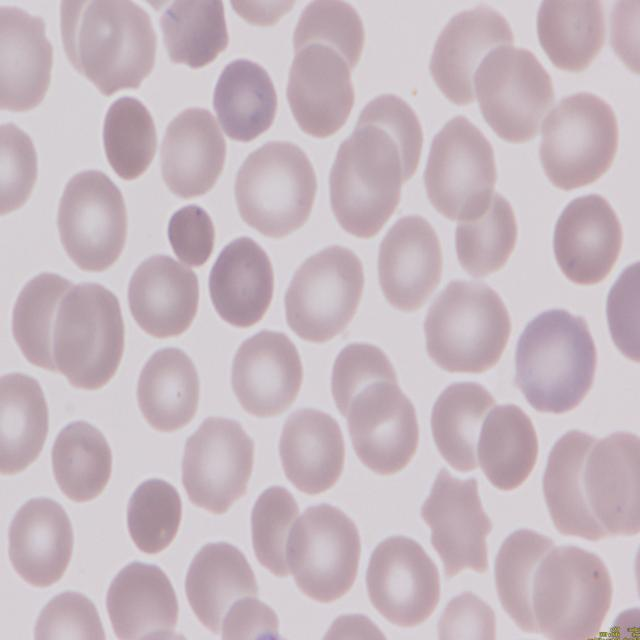RBC: (510, 303, 600, 417), (321, 125, 406, 238), (232, 138, 320, 244), (419, 113, 501, 224), (420, 278, 512, 376), (536, 90, 622, 193), (472, 43, 556, 148), (52, 171, 134, 277), (284, 246, 368, 348), (52, 280, 129, 390), (179, 412, 258, 518), (72, 0, 160, 95), (364, 532, 444, 636), (530, 538, 611, 640), (286, 502, 363, 607), (549, 192, 626, 292), (286, 41, 358, 145), (372, 212, 443, 316), (4, 494, 79, 591), (343, 384, 421, 477), (230, 329, 306, 424), (125, 253, 203, 345), (158, 104, 230, 202), (274, 406, 346, 501), (206, 237, 278, 331), (426, 379, 496, 474), (101, 557, 179, 640), (323, 341, 400, 424), (134, 343, 204, 434), (448, 190, 518, 281), (212, 53, 282, 142), (0, 4, 55, 114), (0, 373, 55, 481), (582, 432, 640, 534), (247, 484, 306, 584), (49, 415, 114, 505), (528, 0, 608, 71), (158, 0, 232, 72), (603, 255, 640, 368), (0, 120, 42, 218), (28, 590, 108, 640), (434, 590, 497, 640), (218, 593, 284, 640), (607, 0, 640, 83), (311, 611, 394, 640), (224, 0, 300, 26)
Spherocyte: (94, 92, 158, 185), (474, 401, 540, 491), (120, 471, 183, 558), (166, 198, 218, 266)
